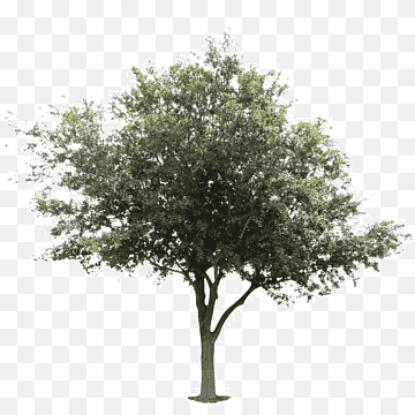tree: (21, 33, 407, 412)
